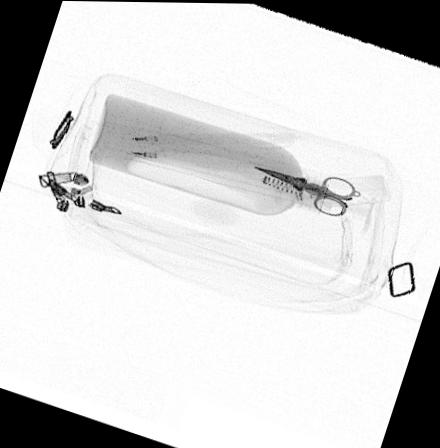Scissors: (251, 165, 358, 216)
